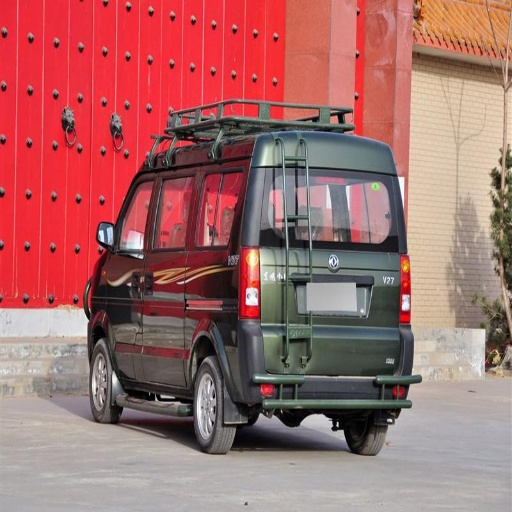back_left_light: (236, 249, 259, 317)
back_right_door: (110, 292, 139, 375)
trunk: (122, 169, 396, 395)
